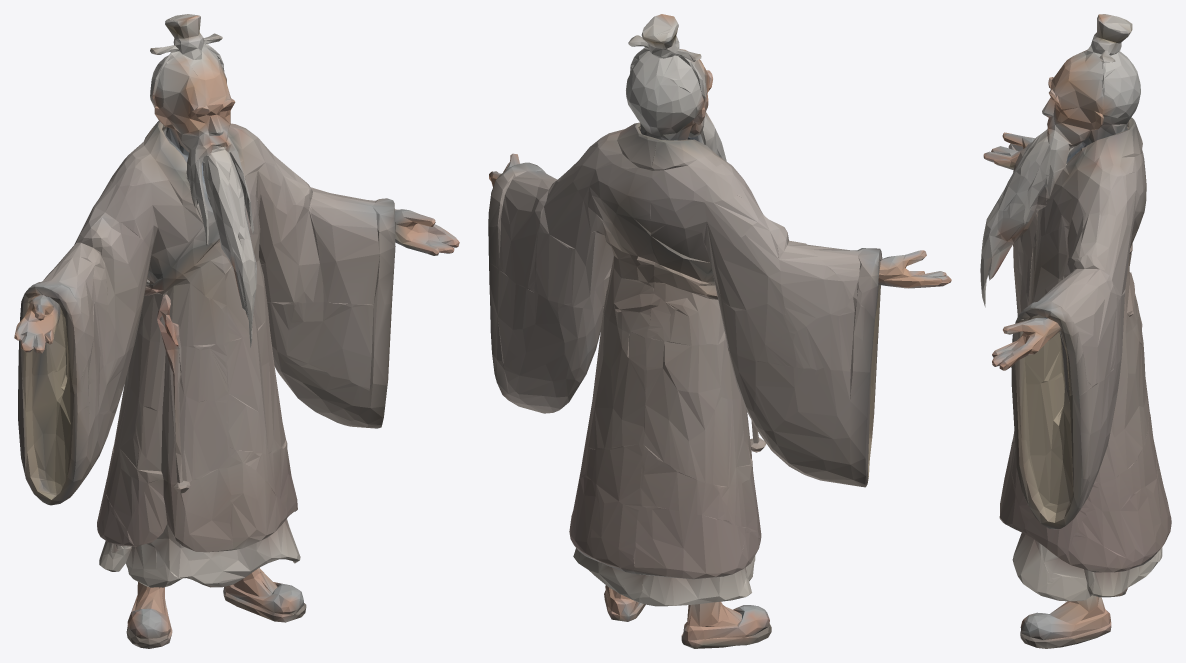
The model's file is emperor.glb.
The picture shows the model from 3 angles, left to right: view 1: azimuth 30°, elevation 25°; view 2: azimuth 150°, elevation 25°; view 3: azimuth 270°, elevation 25°; orthographic projection. The views are drawn at different scales.
Visible parts, largest first — view 1: emperor; view 2: emperor; view 3: emperor.
Part boxes in pixels (x1=…): emperor: x1=14, y1=14, x2=459, y2=648; emperor: x1=488, y1=14, x2=951, y2=648; emperor: x1=980, y1=14, x2=1171, y2=648.
Bounding box in the file's own units: 0.7733 × 0.9996 × 0.2899.
